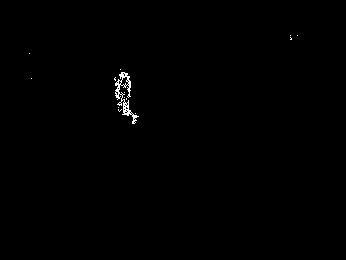person: (113, 70, 140, 126)
